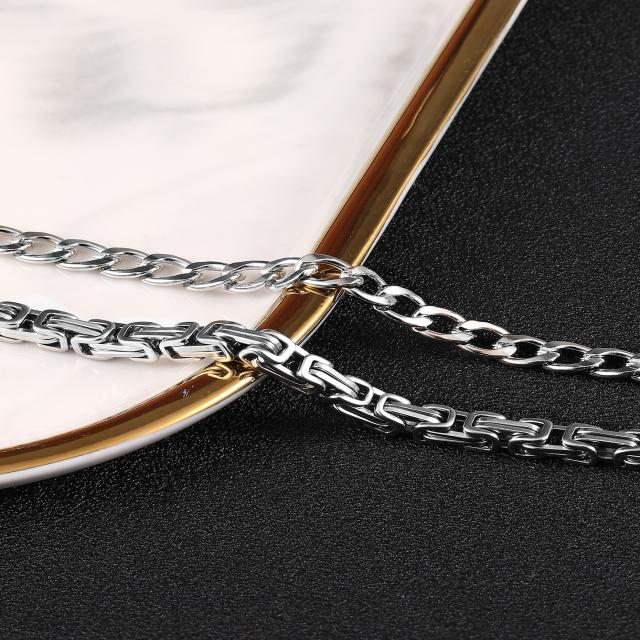bracelet: (0, 150, 640, 532)
